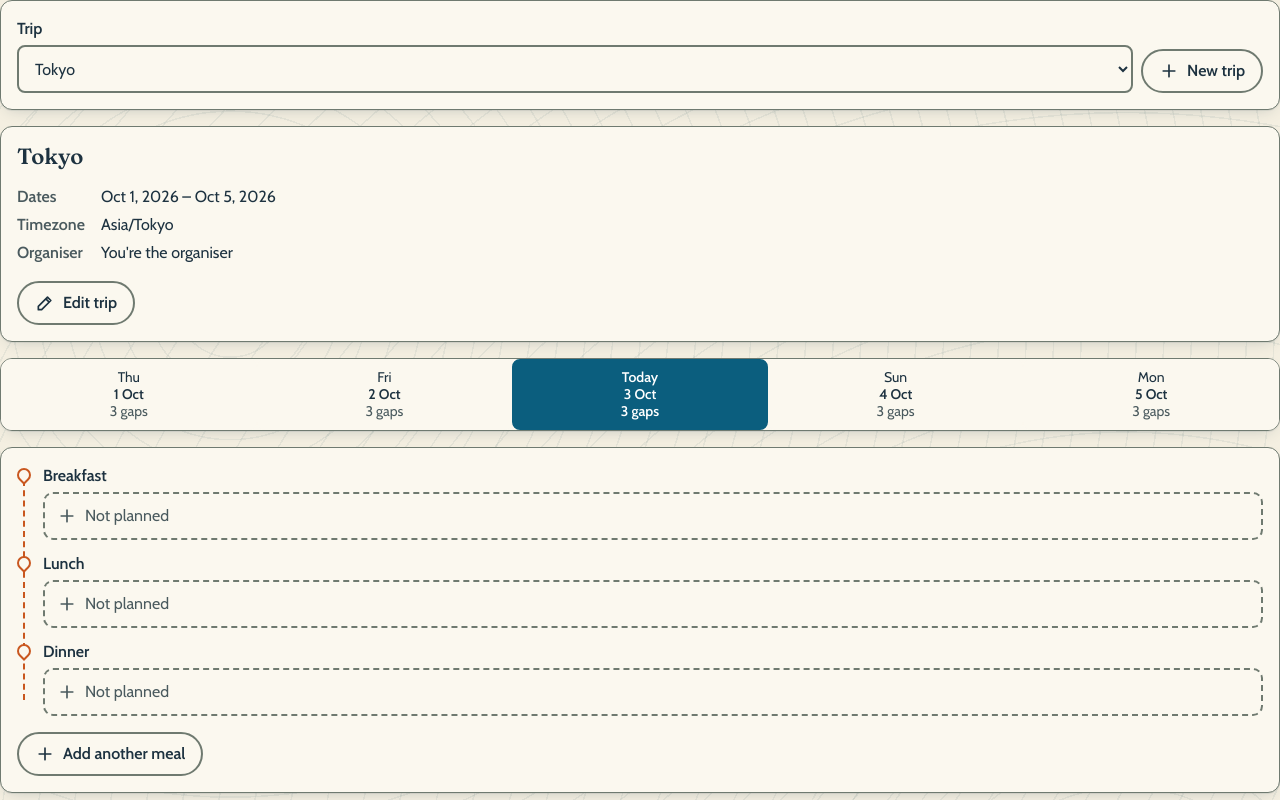
editing a trip › the date change goes ahead once confirmed
Click the button "Edit trip" at (76, 303), box x1=17 y1=281 x2=135 y2=325
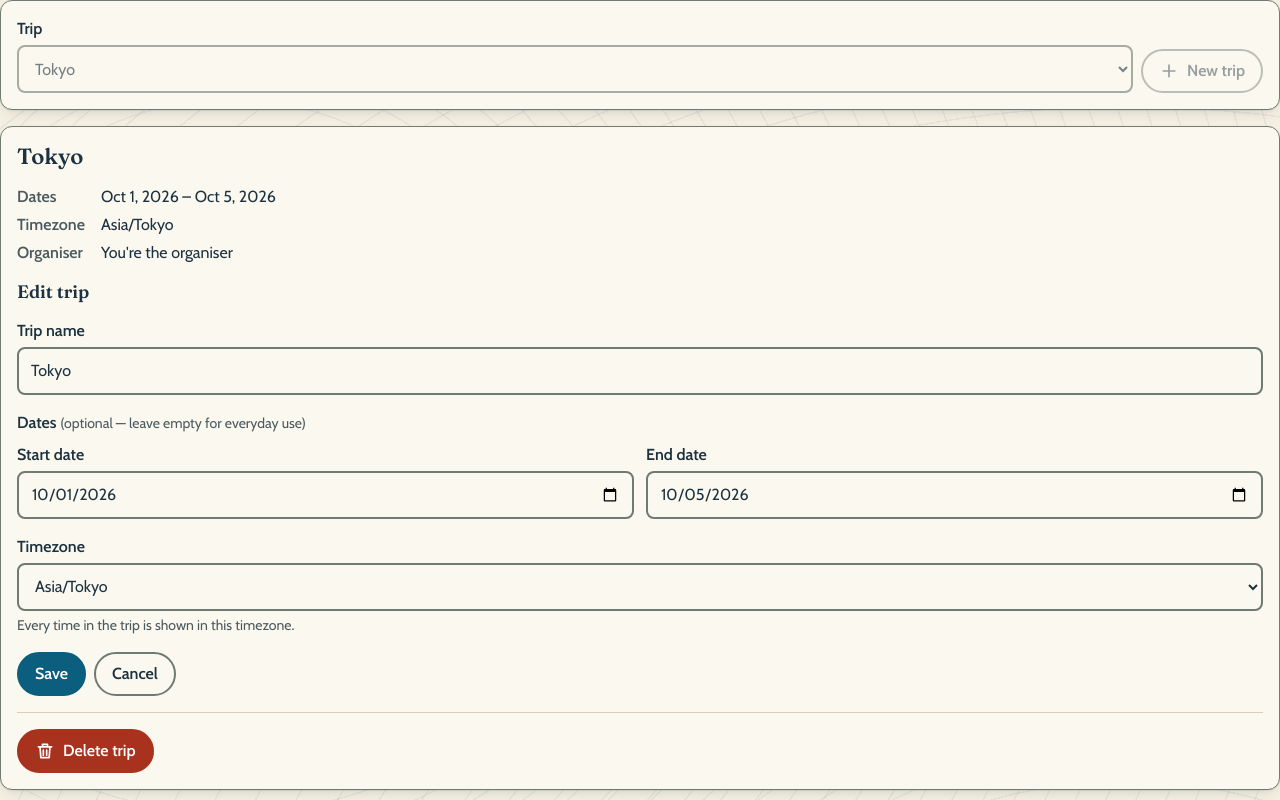
Type "2026-10-02" into the date field labelled "Start date" at (326, 495), box x1=17 y1=471 x2=634 y2=519
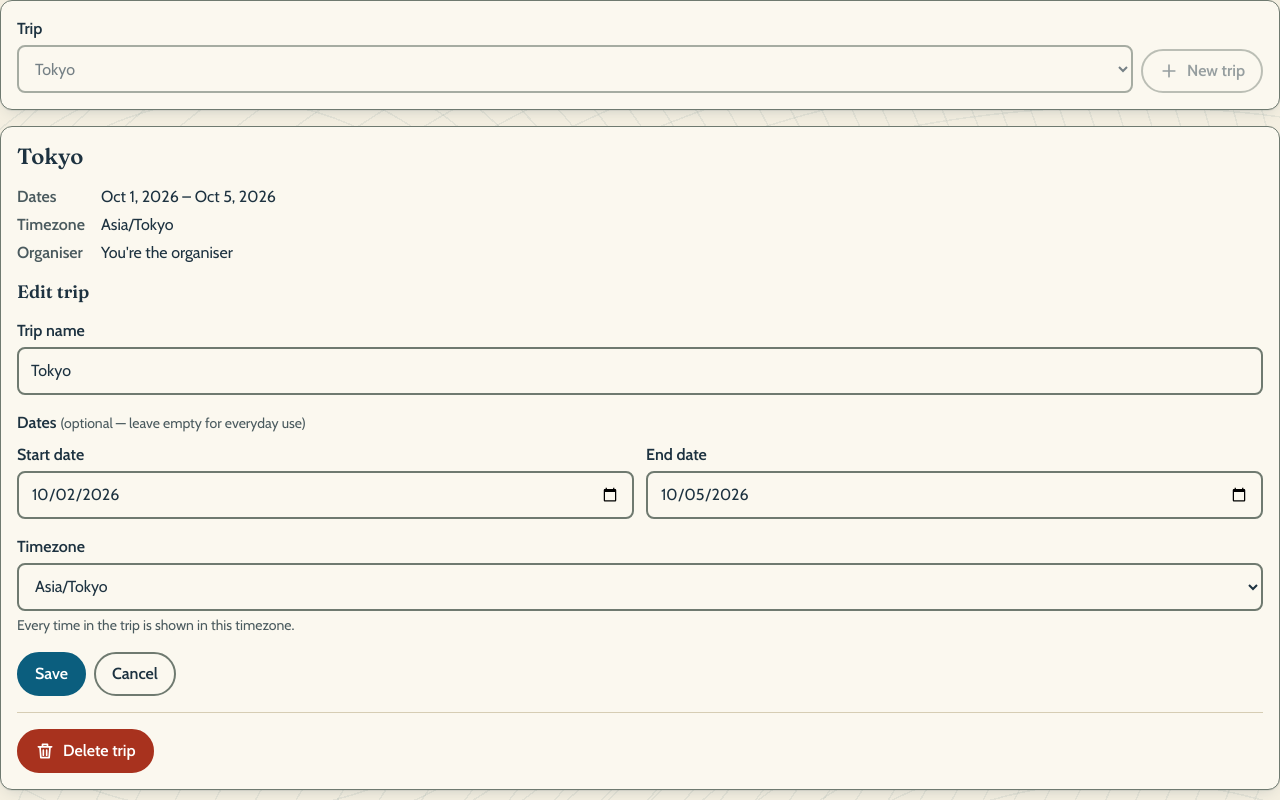
Type "2026-10-04" into the date field labelled "End date" at (954, 495), box x1=646 y1=471 x2=1263 y2=519
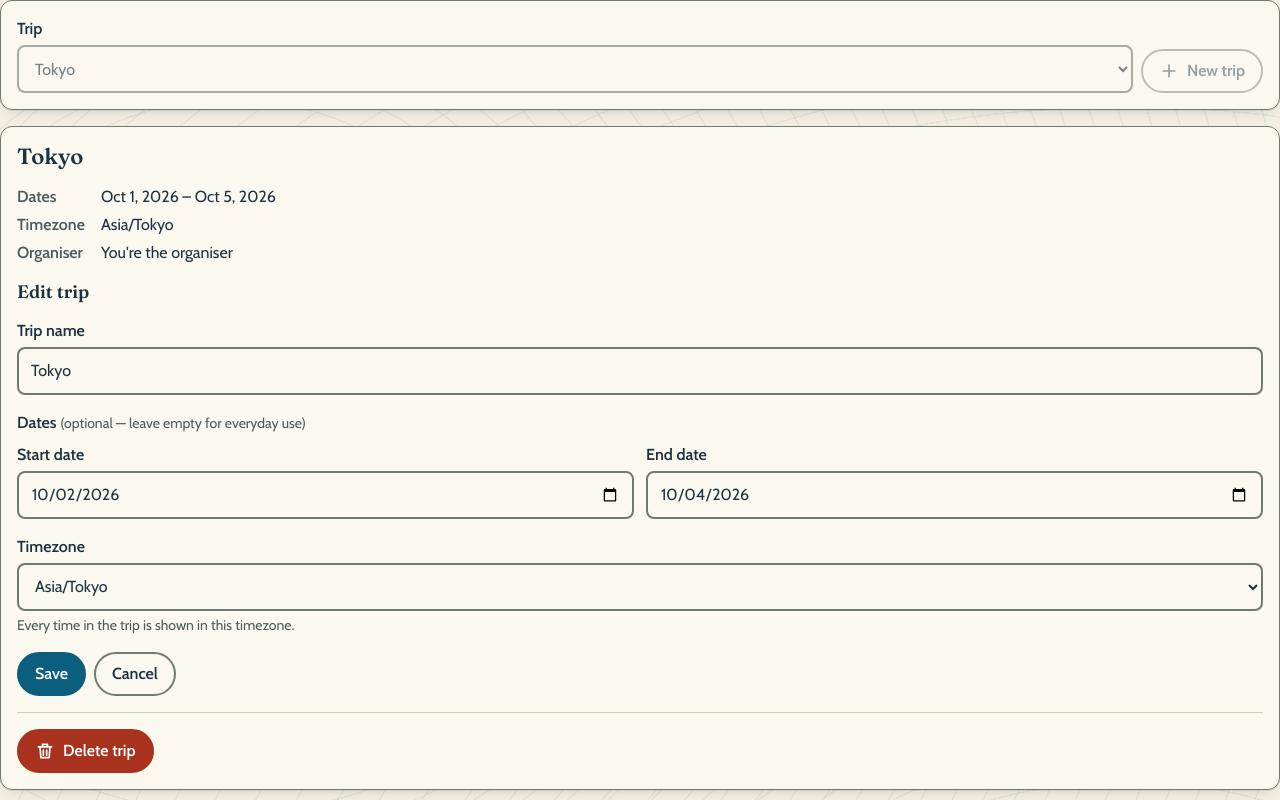
Submit the form, box x1=17 y1=281 x2=1263 y2=773
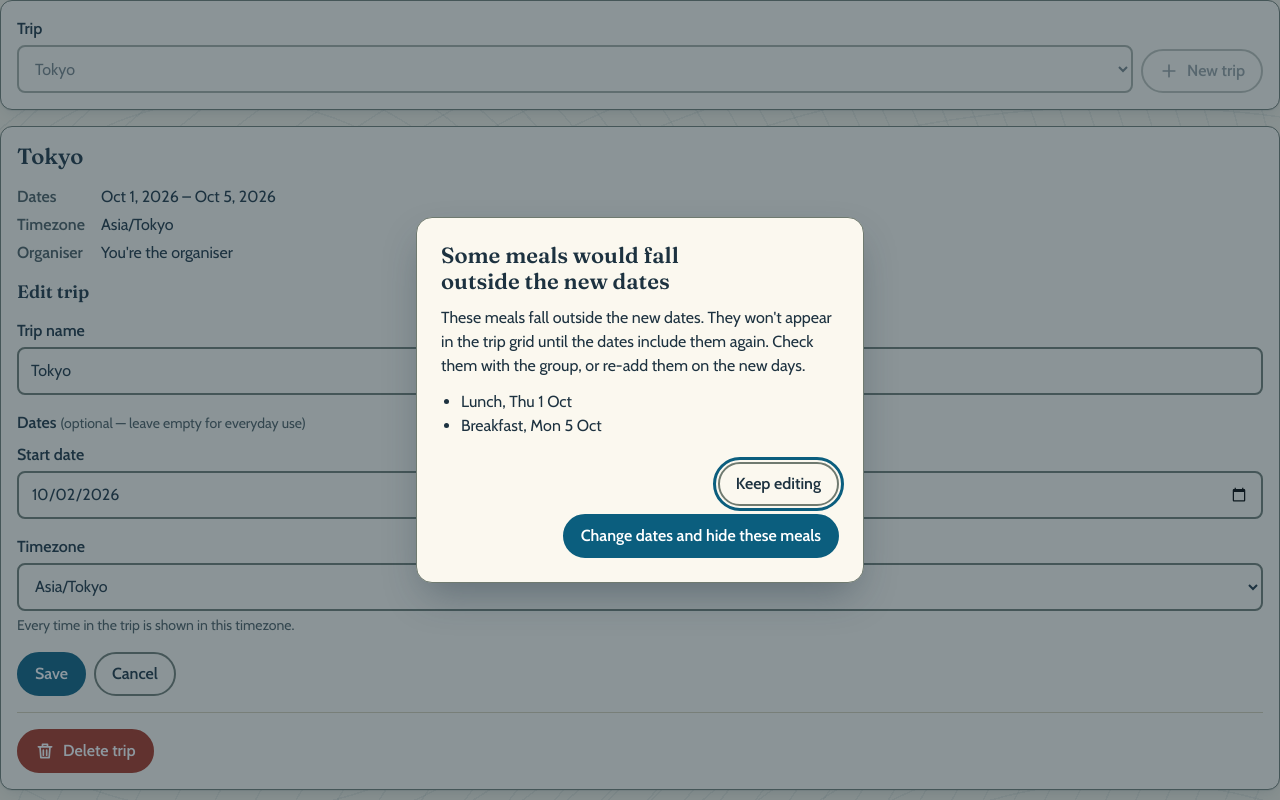
Click the button "Change dates and hide these meals" at (701, 536), box x1=563 y1=514 x2=839 y2=558
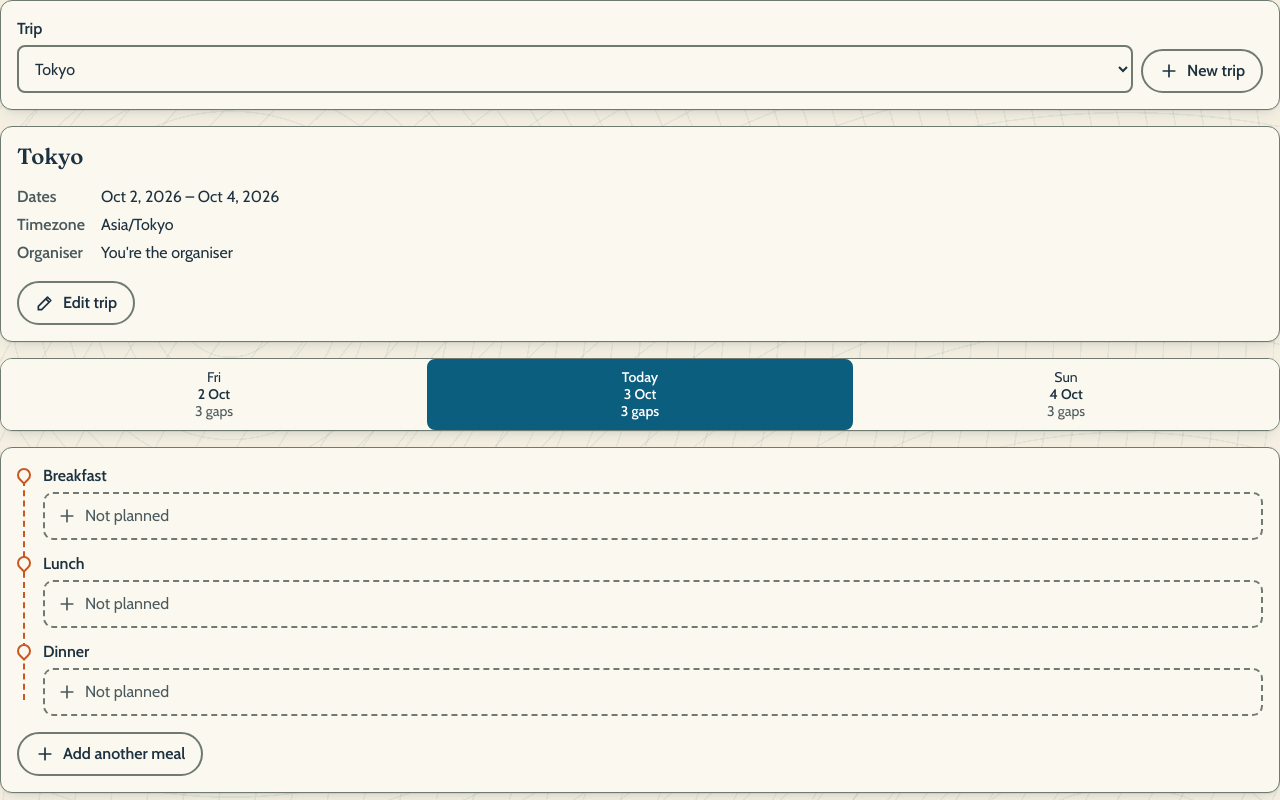
Expected: the text "Oct 2, 2026" is shown, x1=101 y1=187 x2=182 y2=206
Expected: the text "Oct 4, 2026" is shown, x1=198 y1=187 x2=279 y2=206
